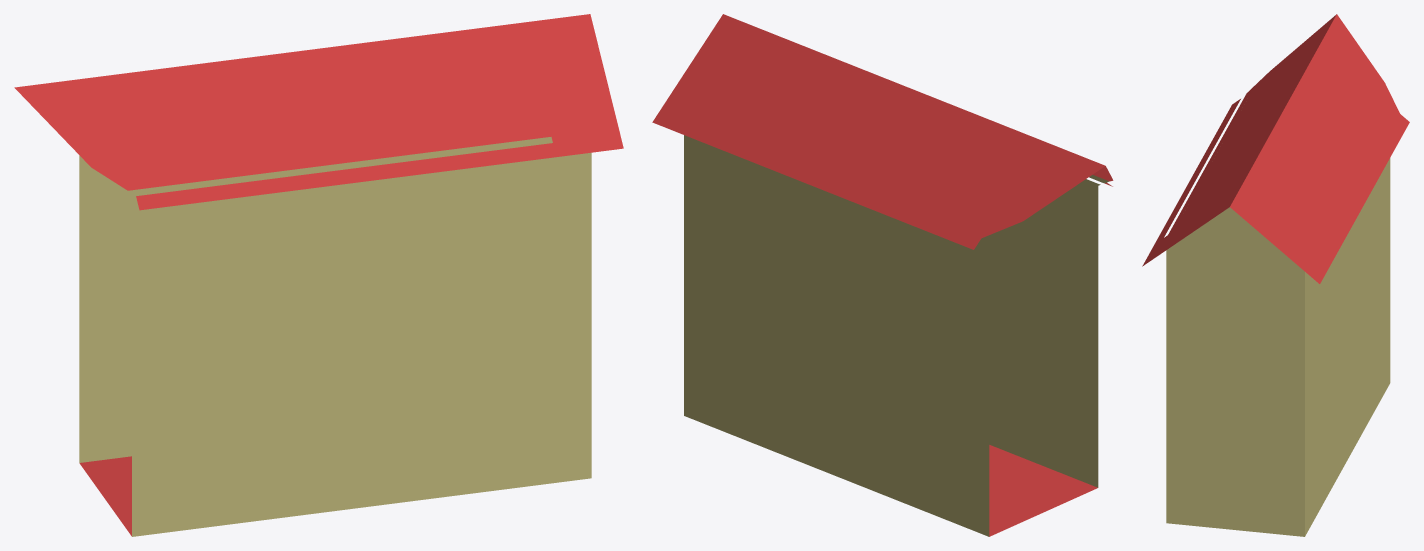
3 renders of one model, left to right at view 1: azimuth 30°, elevation 25°; view 2: azimuth 150°, elevation 25°; view 3: azimuth 270°, elevation 25°, orthographic. The views are drawn at different scales.
Size of the model in its own units: 17.85 by 10 by 13.64.
